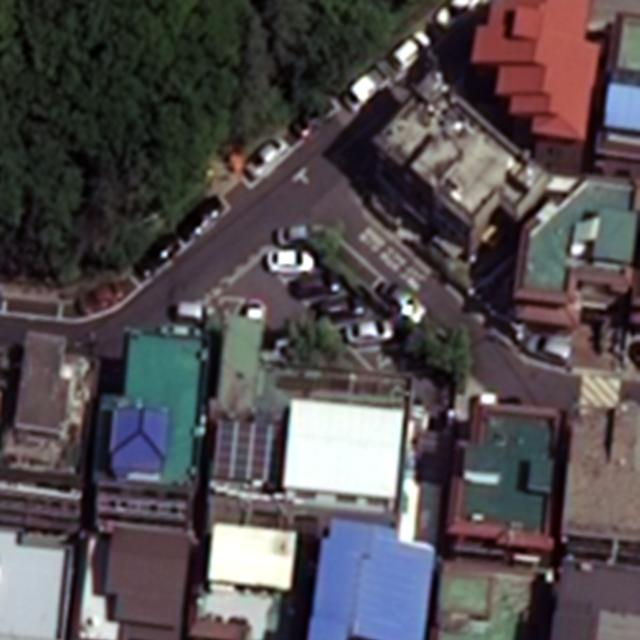panel: (211, 417, 276, 486)
